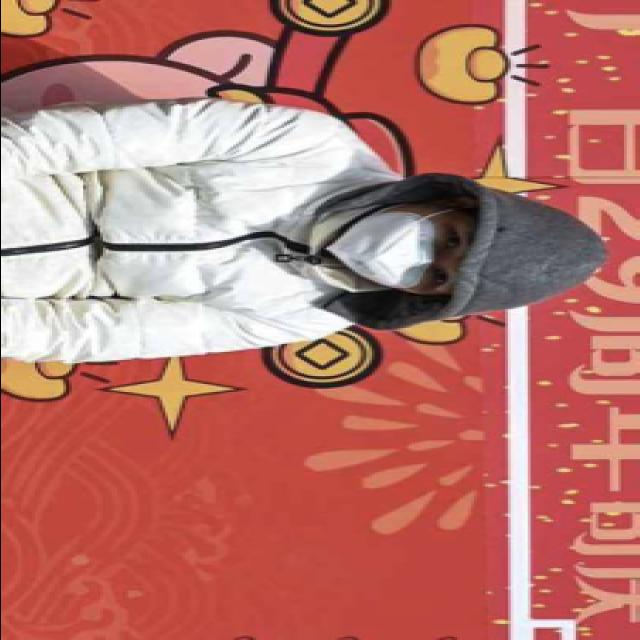mask: (320, 198, 476, 292)
